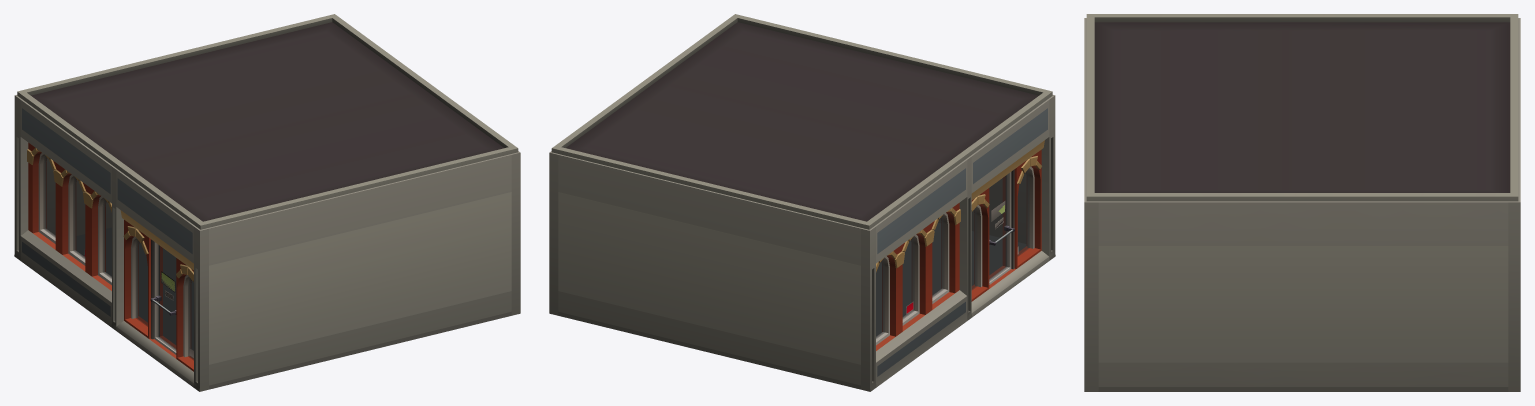
File: TSP_Shop_02A.fbx
The picture shows the model from 3 angles, left to right: view 1: azimuth 30°, elevation 25°; view 2: azimuth 150°, elevation 25°; view 3: azimuth 270°, elevation 25°; orthographic projection. The views are drawn at different scales.
Parts seen in each view (by area): view 1: TSP_Shop_02A, TSP_Shop_02A_Door; view 2: TSP_Shop_02A, TSP_Shop_02A_Door; view 3: TSP_Shop_02A.
Boxes of the visible parts, x1,y1,x2,y2 form: TSP_Shop_02A: (14, 14, 520, 391); TSP_Shop_02A_Door: (150, 242, 176, 354); TSP_Shop_02A: (549, 14, 1055, 391); TSP_Shop_02A_Door: (989, 172, 1014, 284); TSP_Shop_02A: (1084, 14, 1520, 391).
Size of the model in its own units: 8.14 by 4 by 8.13.
